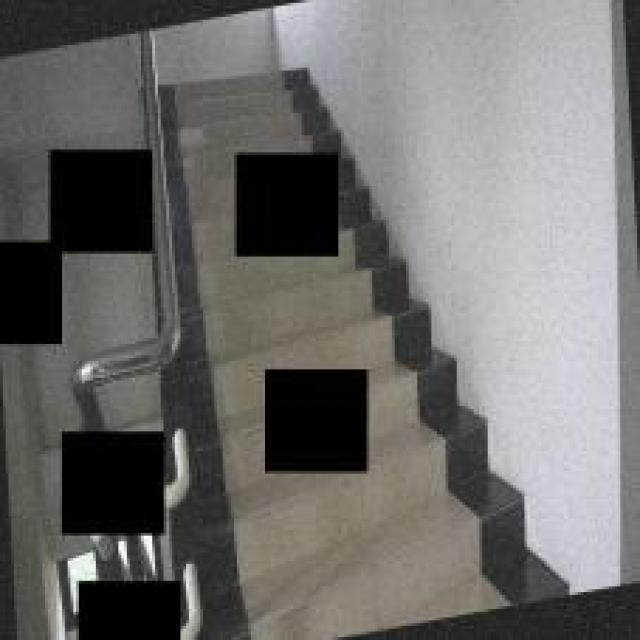upstair: (192, 259, 398, 364)
